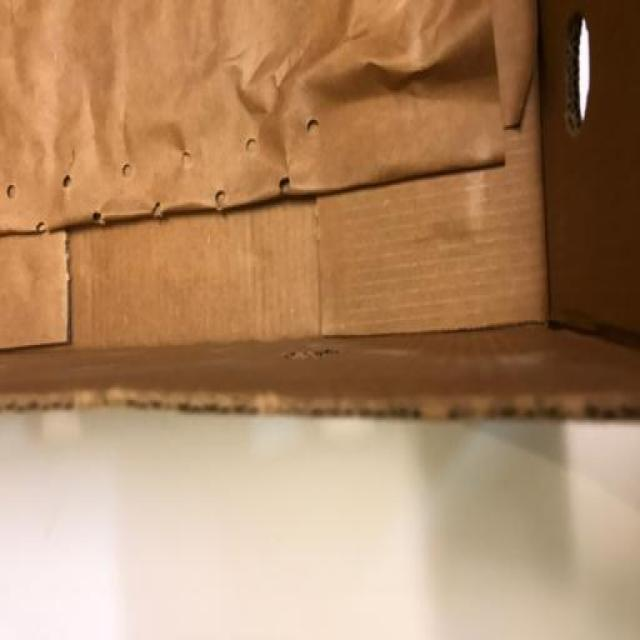Cardboard: (0, 0, 639, 418)
